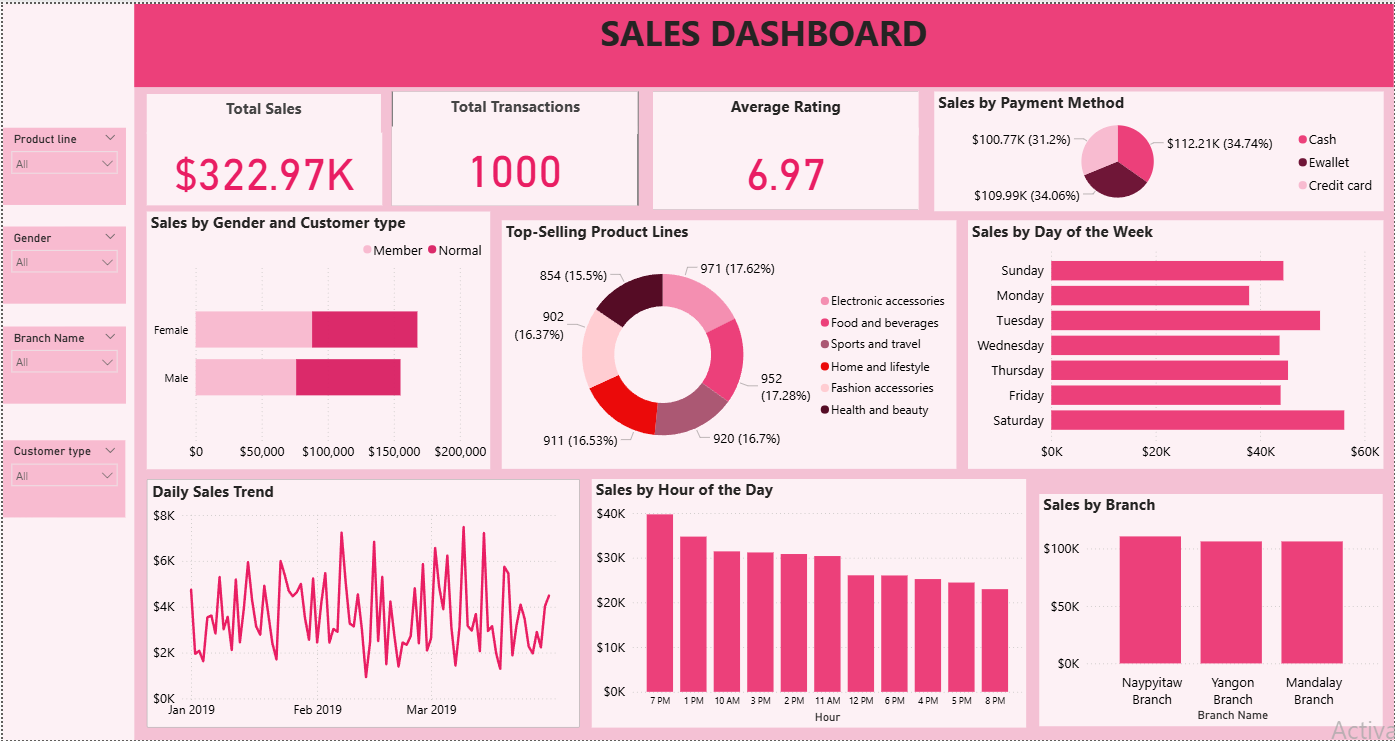

What the dashboard file says about the page in this screenshot:
{"tool":"powerbi","page":{"name":"Page 1","canvas":[1400,850],"ordinal":0},"visuals":[{"type":"shape","box":[0,0,160.6,849.5],"z":0},{"type":"card","fields":{"Values":["Avg(supermarket_sales - Sheet1.Rating)"]},"box":[780.4,163.6,289.7,75],"z":0,"group":"g3"},{"type":"card","fields":{"Values":["CountNonNull(supermarket_sales - Sheet1.Invoice ID)"]},"box":[475.8,164.3,288.2,75],"z":0,"group":"g2"},{"type":"card","fields":{"Values":["Sum(supermarket_sales - Sheet1.Total)"]},"box":[174.8,168.3,288.2,70.4],"z":0,"group":"g1"},{"type":"group","id":"g1","title":"Group 1","box":[174.1,130.6,288.2,108.1],"z":1000},{"type":"textbox","box":[174.1,130.6,286.7,39],"z":1000,"group":"g1"},{"type":"textbox","box":[476.5,130.6,287.8,40.1],"z":1000,"group":"g2"},{"type":"textbox","box":[780.4,130.6,289.7,40.5],"z":1000,"group":"g3"},{"type":"group","id":"g2","title":"Group 1","box":[475.8,130.6,288.2,108.1],"z":3000},{"type":"lineChart","title":"Daily Sales Trend","fields":{"Y":["Sum(supermarket_sales - Sheet1.Total)"],"Category":["supermarket_sales - Sheet1.Date"]},"box":[160.6,607.8,399.2,240.1],"z":4000},{"type":"group","id":"g3","title":"Group 1","box":[780.4,130.6,289.7,108.1],"z":5000},{"type":"clusteredColumnChart","title":"Sales by Branch","fields":{"Category":["supermarket_sales - Sheet1.Branch Name"],"Y":["Sum(supermarket_sales - Sheet1.Total)"]},"box":[1083.6,597.3,316.7,252.1],"z":6000},{"type":"donutChart","title":"Top-Selling Product Lines","fields":{"Category":["supermarket_sales - Sheet1.Product line"],"Y":["Sum(supermarket_sales - Sheet1.Quantity)"]},"box":[535.8,286.7,475.8,279.2],"z":6001},{"type":"barChart","title":"Sales by Gender and Customer type","fields":{"Category":["supermarket_sales - Sheet1.Gender"],"Series":["supermarket_sales - Sheet1.Customer type"],"Y":["Sum(supermarket_sales - Sheet1.Total)"]},"box":[175.6,286.7,339.2,286.7],"z":6002},{"type":"columnChart","title":"Sales by Hour of the Day","fields":{"Y":["Sum(supermarket_sales - Sheet1.Total)"],"Category":["supermarket_sales - Sheet1.Hour Label"]},"box":[570.3,607.8,499.8,240.1],"z":6003},{"type":"clusteredBarChart","title":"Sales by Day of the Week","fields":{"Y":["Sum(supermarket_sales - Sheet1.Total)"],"Category":["supermarket_sales - Sheet1.Day of the Week"]},"box":[1034.1,303.2,366.2,279.2],"z":6004},{"type":"pieChart","title":"Sales by Payment Method","fields":{"Category":["supermarket_sales - Sheet1.Payment"],"Y":["Sum(supermarket_sales - Sheet1.Total)"]},"box":[1089.6,111.1,306.2,180.1],"z":6005},{"type":"slicer","fields":{"Values":["supermarket_sales - Sheet1.Product line"]},"box":[0,151.6,150.1,94.6],"z":6006},{"type":"slicer","fields":{"Values":["supermarket_sales - Sheet1.Gender"]},"box":[0,271.7,150.1,94.6],"z":6007},{"type":"slicer","fields":{"Values":["supermarket_sales - Sheet1.Branch Name"]},"box":[0,394.7,150.1,94.6],"z":6008},{"type":"slicer","fields":{"Values":["supermarket_sales - Sheet1.Date"]},"box":[0,526.8,150.1,94.6],"z":6009},{"type":"slicer","fields":{"Values":["supermarket_sales - Sheet1.Customer type"]},"box":[0,645.4,150.1,94.6],"z":6010},{"type":"textbox","box":[160.6,27,1239.7,75],"z":6013}]}

Visuals, with their boxes on the page's 1400x850 design canvas (x1, y1, x2, y2). These are canvas units, not pixel positions in the 1395x741 screenshot, which may show the page scaled, cropped or inside an application window:
shape: x1=0, y1=0, x2=161, y2=850
card - Avg(supermarket_sales - Sheet1.Rating): x1=780, y1=164, x2=1070, y2=239
card - CountNonNull(supermarket_sales - Sheet1.Invoice ID): x1=476, y1=164, x2=764, y2=239
card - Sum(supermarket_sales - Sheet1.Total): x1=175, y1=168, x2=463, y2=239
"Group 1" group: x1=174, y1=131, x2=462, y2=239
textbox: x1=174, y1=131, x2=461, y2=170
textbox: x1=476, y1=131, x2=764, y2=171
textbox: x1=780, y1=131, x2=1070, y2=171
"Group 1" group: x1=476, y1=131, x2=764, y2=239
"Daily Sales Trend" lineChart: x1=161, y1=608, x2=560, y2=848
"Group 1" group: x1=780, y1=131, x2=1070, y2=239
"Sales by Branch" clusteredColumnChart: x1=1084, y1=597, x2=1400, y2=849
"Top-Selling Product Lines" donutChart: x1=536, y1=287, x2=1012, y2=566
"Sales by Gender and Customer type" barChart: x1=176, y1=287, x2=515, y2=573
"Sales by Hour of the Day" columnChart: x1=570, y1=608, x2=1070, y2=848
"Sales by Day of the Week" clusteredBarChart: x1=1034, y1=303, x2=1400, y2=582
"Sales by Payment Method" pieChart: x1=1090, y1=111, x2=1396, y2=291
slicer - supermarket_sales - Sheet1.Product line: x1=0, y1=152, x2=150, y2=246
slicer - supermarket_sales - Sheet1.Gender: x1=0, y1=272, x2=150, y2=366
slicer - supermarket_sales - Sheet1.Branch Name: x1=0, y1=395, x2=150, y2=489
slicer - supermarket_sales - Sheet1.Date: x1=0, y1=527, x2=150, y2=621
slicer - supermarket_sales - Sheet1.Customer type: x1=0, y1=645, x2=150, y2=740
textbox: x1=161, y1=27, x2=1400, y2=102
